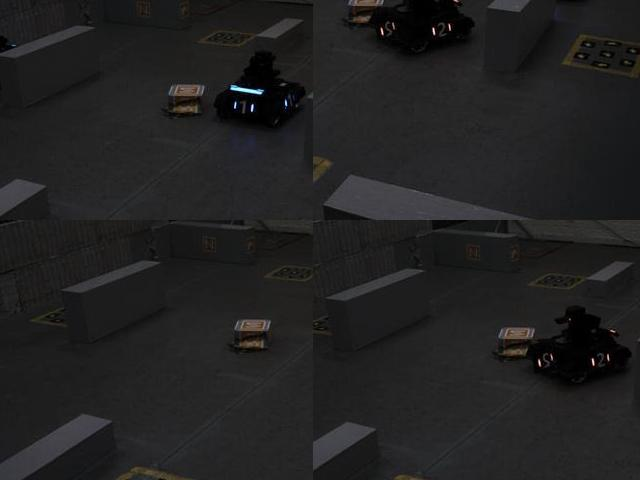armor: (229, 96, 258, 121), (584, 350, 615, 371), (535, 347, 559, 374), (425, 21, 454, 42), (377, 16, 399, 41), (278, 89, 300, 112)
